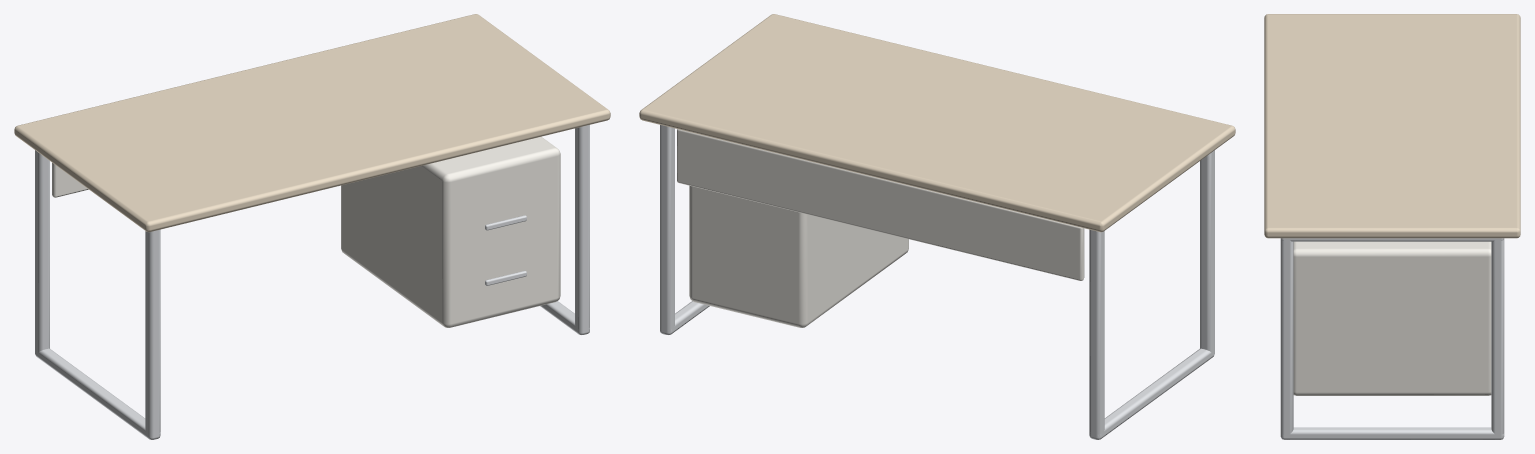
The model's file is desk.glb.
3 views of the same model, side by side, from view 1: azimuth 30°, elevation 25°; view 2: azimuth 150°, elevation 25°; view 3: azimuth 270°, elevation 25° (orthographic). The views are drawn at different scales.
Visible parts, largest first — view 1: desk; view 2: desk; view 3: desk.
Part boxes in pixels (x1,y1,x2,y2): desk: (14,14,610,439); desk: (639,14,1235,439); desk: (1264,14,1520,439).
Size of the model in its own units: 1.58 by 0.74 by 0.79.
